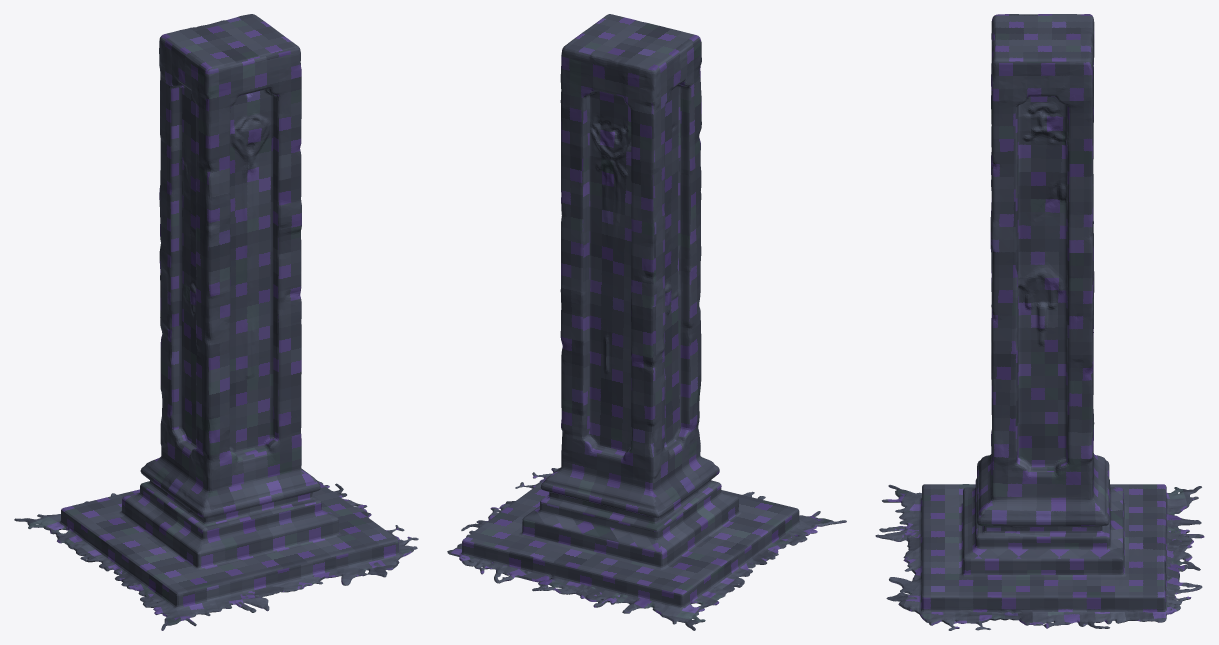
File: weathered-monolith-pillar-generated-2026-04-19T23-39-39-599Z.glb
3 views of the same model, side by side, from view 1: azimuth 30°, elevation 25°; view 2: azimuth 150°, elevation 25°; view 3: azimuth 270°, elevation 25° (orthographic). The views are drawn at different scales.
Parts seen in each view (by area): view 1: temp_mesh.ply; view 2: temp_mesh.ply; view 3: temp_mesh.ply.
Boxes of the visible parts, x1,y1,x2,y2 form: temp_mesh.ply: [14, 14, 418, 630]; temp_mesh.ply: [447, 14, 846, 630]; temp_mesh.ply: [875, 14, 1204, 630].
Bounding box in the file's own units: 1.18 × 1.97 × 1.13.
1 material, 1 textured.
